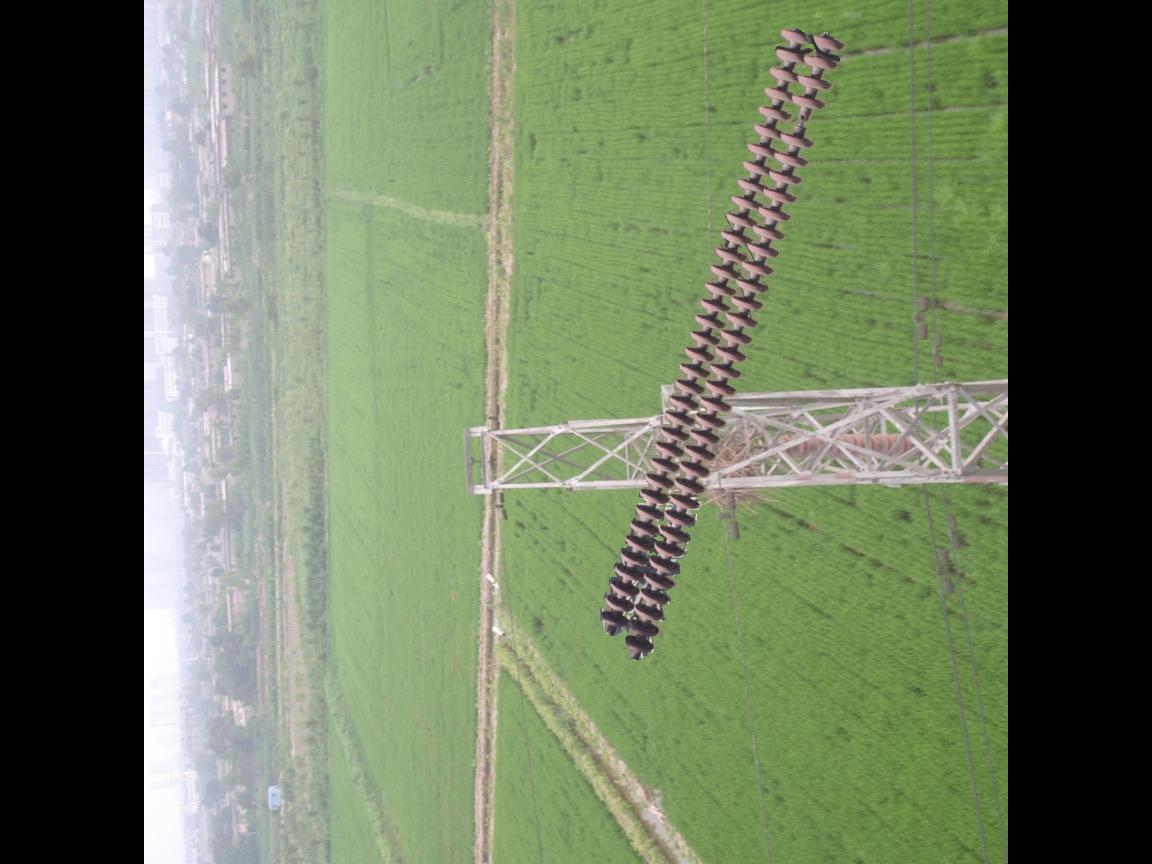insulator: (599, 22, 847, 659), (788, 426, 914, 467)
insulator_stringdrop: (777, 93, 827, 151)
